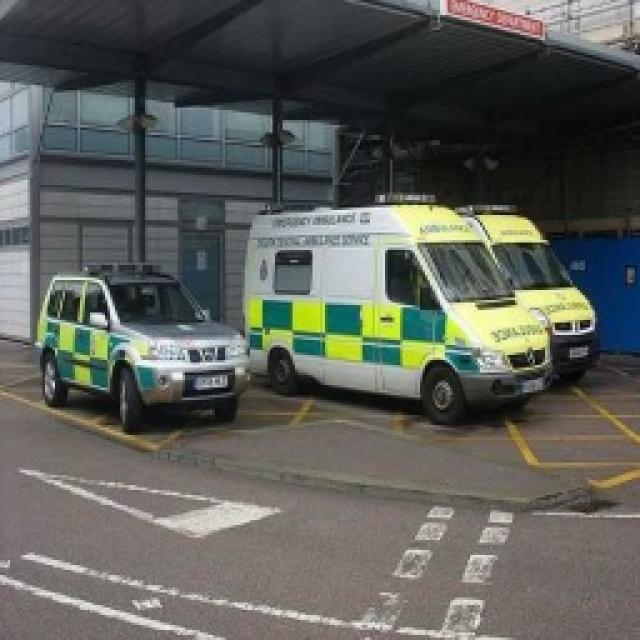emergency-vehicle: (175, 190, 542, 473), (444, 188, 625, 384)
